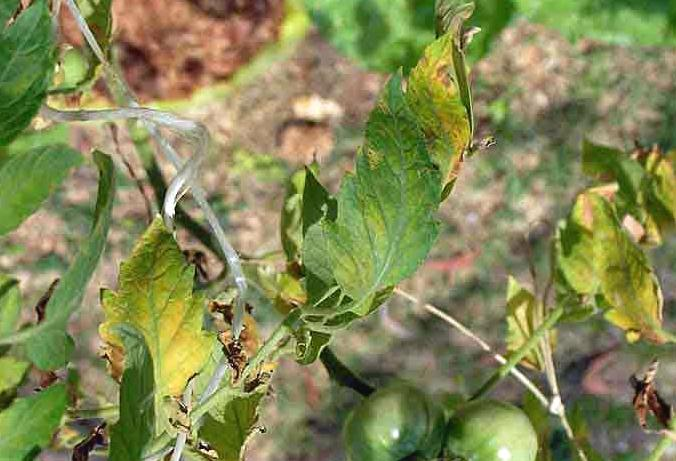Tomato mold leaf: (320, 8, 483, 301), (77, 198, 221, 411), (580, 200, 676, 343)
